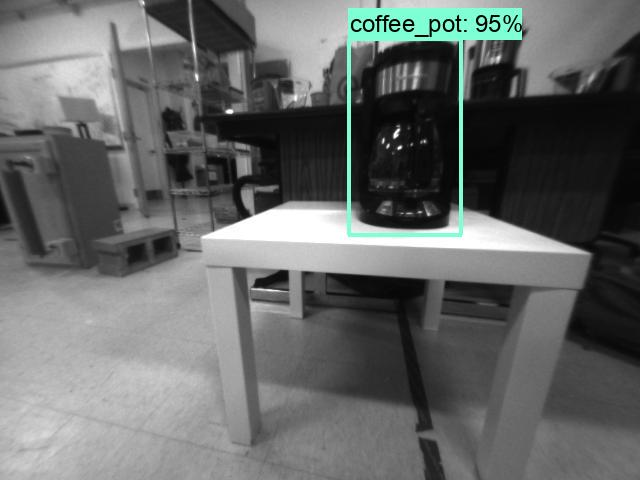coffee_pot: (357, 38, 452, 228)
